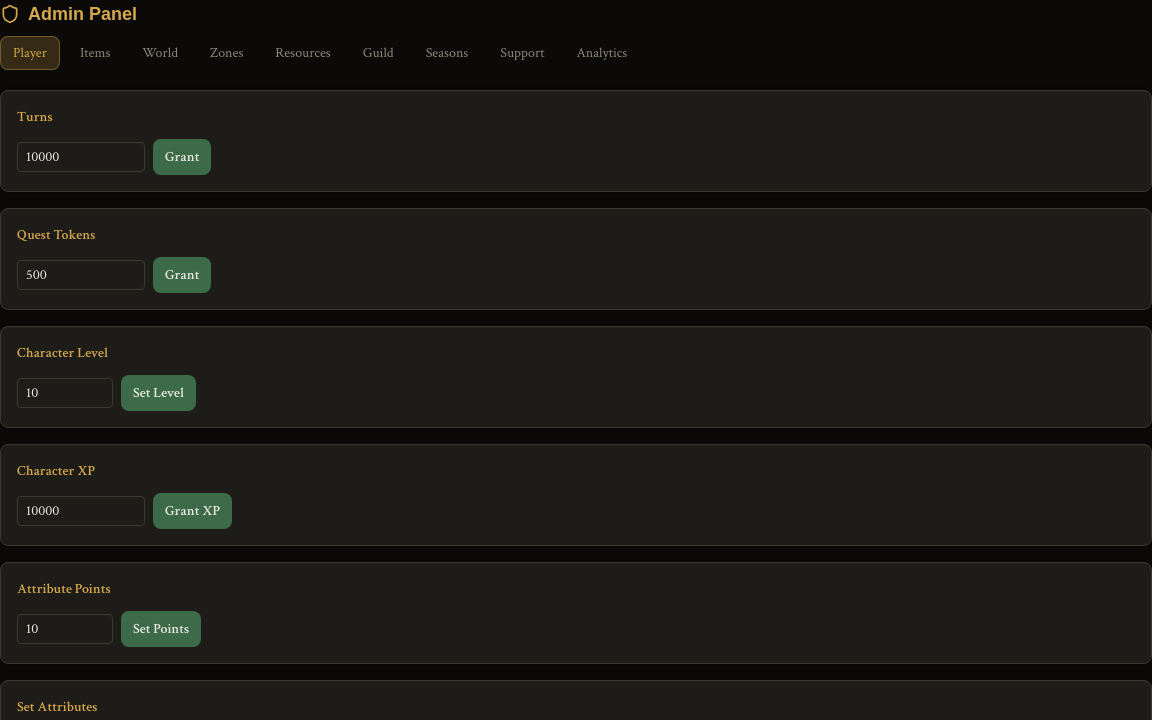
Test: AdminScreen seasons tab › refreshes the list after ending a season
Click the button "Seasons" at (447, 53), box [414,36,480,70]
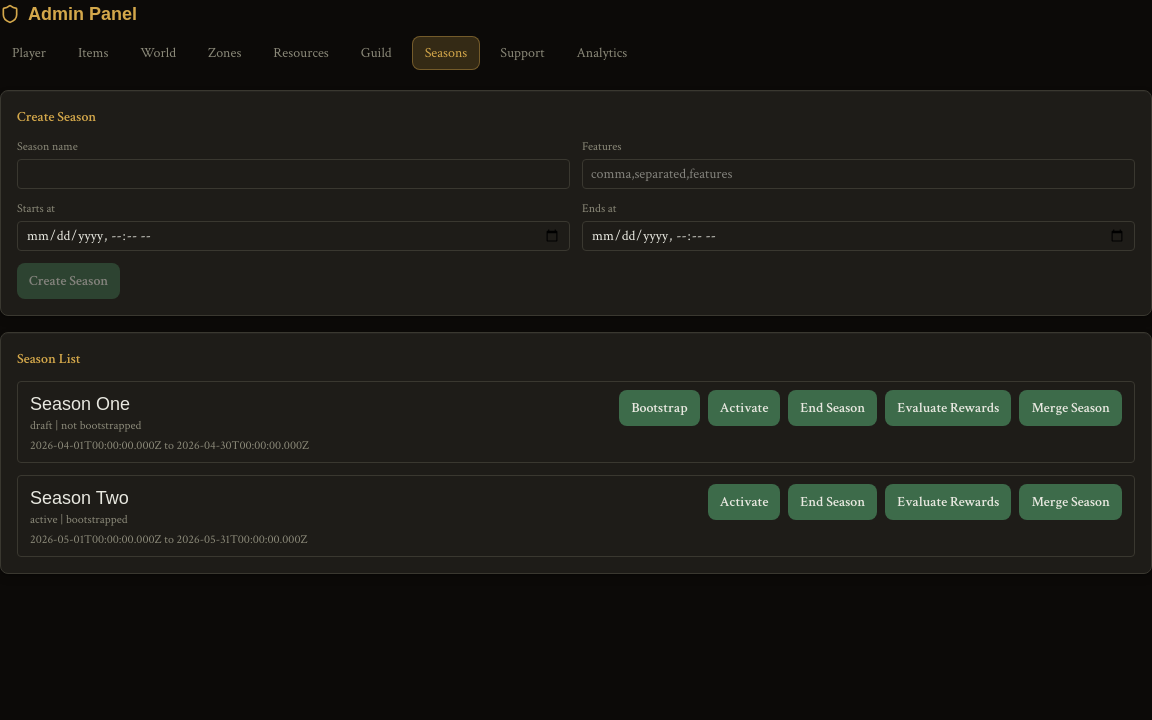
Expected: the heading "Create Season" is shown, [17,108,96,126]
Click the button "End Season" in the row of "Season Two" at (833, 502), box [788,484,877,520]
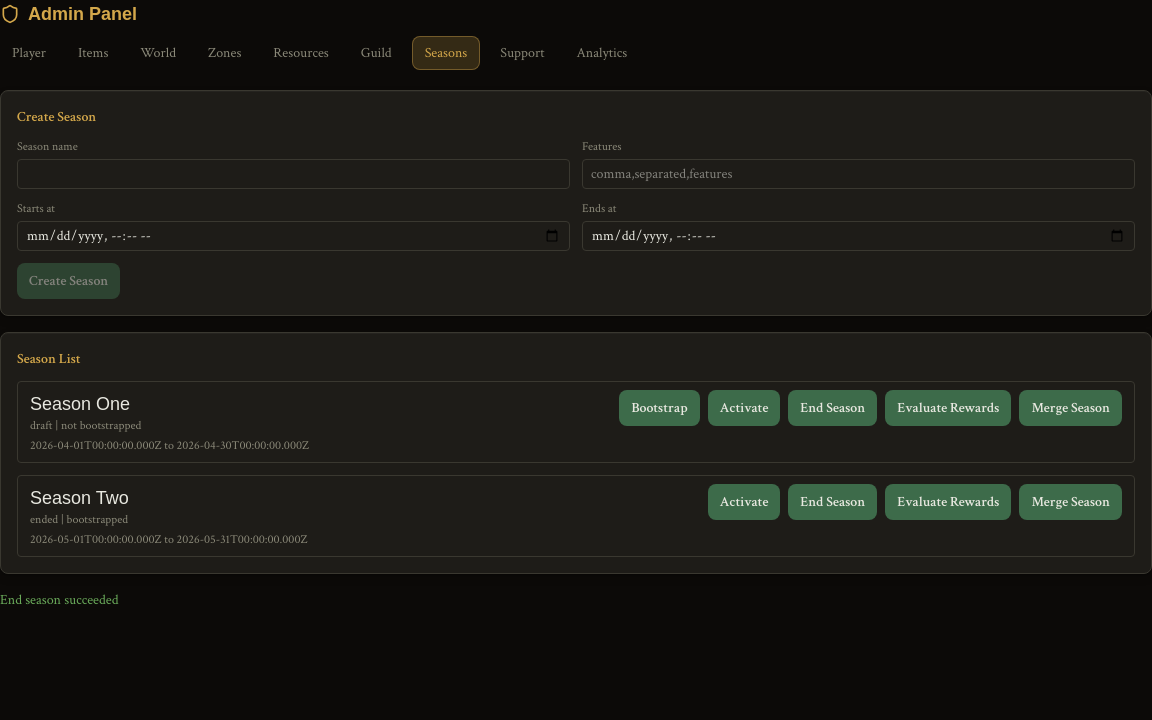
Expected: the element with test id "season-row-season-2" shows "ended", [30,512,58,527]
